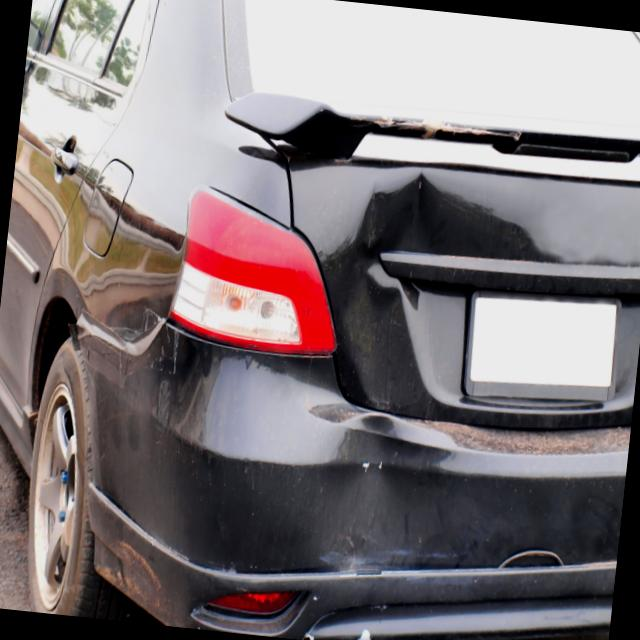Cabossage: (312, 173, 553, 429), (330, 425, 458, 546)
Rayure: (83, 294, 189, 366), (311, 547, 452, 589)
